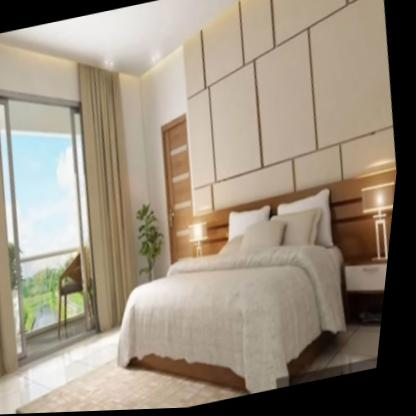Bed: (94, 163, 376, 412)
Lamp: (354, 175, 401, 271)
Nightstand: (334, 248, 395, 348)
